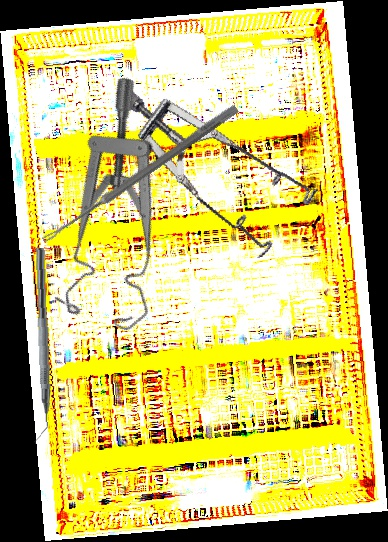Chopper: (22, 248, 55, 444)
Speculum: (9, 73, 242, 346), (114, 36, 333, 285)
Surgical Spoon: (41, 102, 239, 247)
